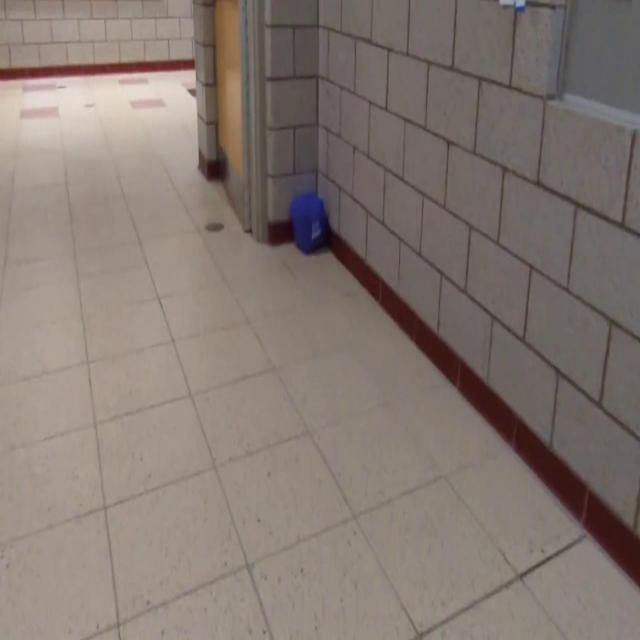frc_cube: (290, 192, 328, 257)
